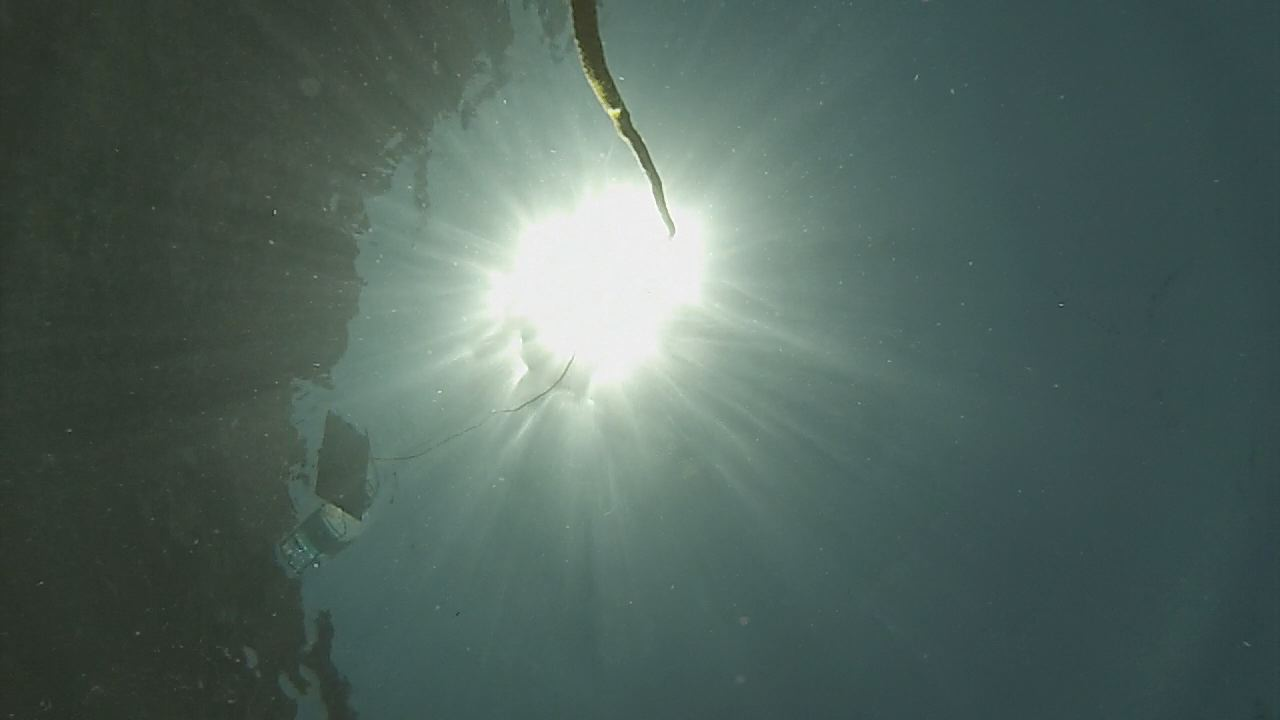pelagia: (30, 447, 65, 479)
